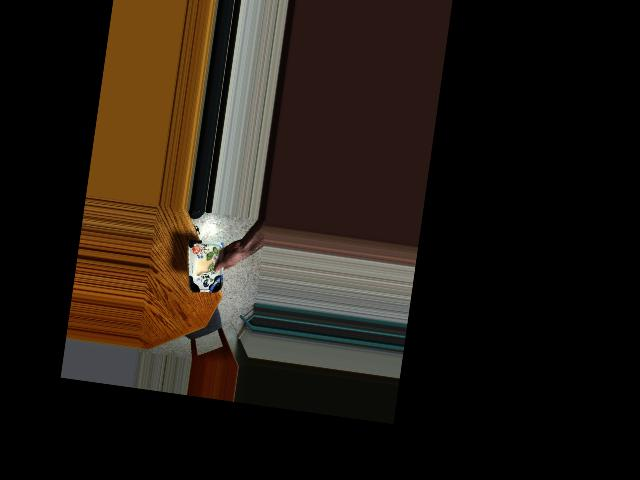cheese: (181, 237, 234, 295)
